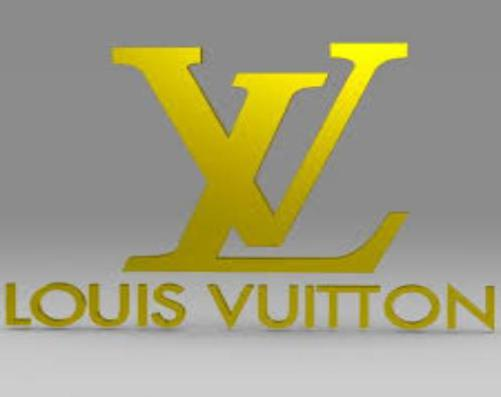LOUIS-VUITTON: (101, 35, 422, 280), (4, 269, 500, 344)
